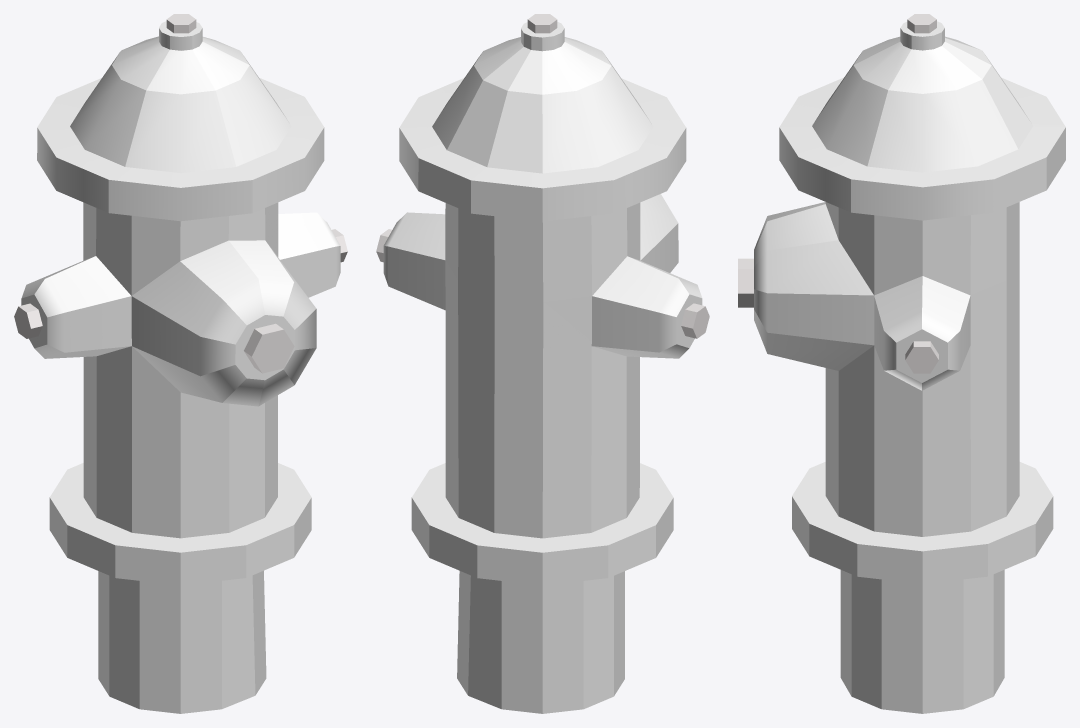
Rendered from Hydrant_001.fbx.
3 renders of one model, left to right at view 1: azimuth 30°, elevation 25°; view 2: azimuth 150°, elevation 25°; view 3: azimuth 270°, elevation 25°, orthographic.
Visible parts, largest first — view 1: polySurface42; view 2: polySurface42; view 3: polySurface42.
Boxes of the visible parts, bbox=[...] form: polySurface42: bbox=[14, 14, 347, 713]; polySurface42: bbox=[376, 14, 709, 713]; polySurface42: bbox=[738, 14, 1065, 713].
Size of the model in its own units: 1.55 by 3.08 by 1.39.
